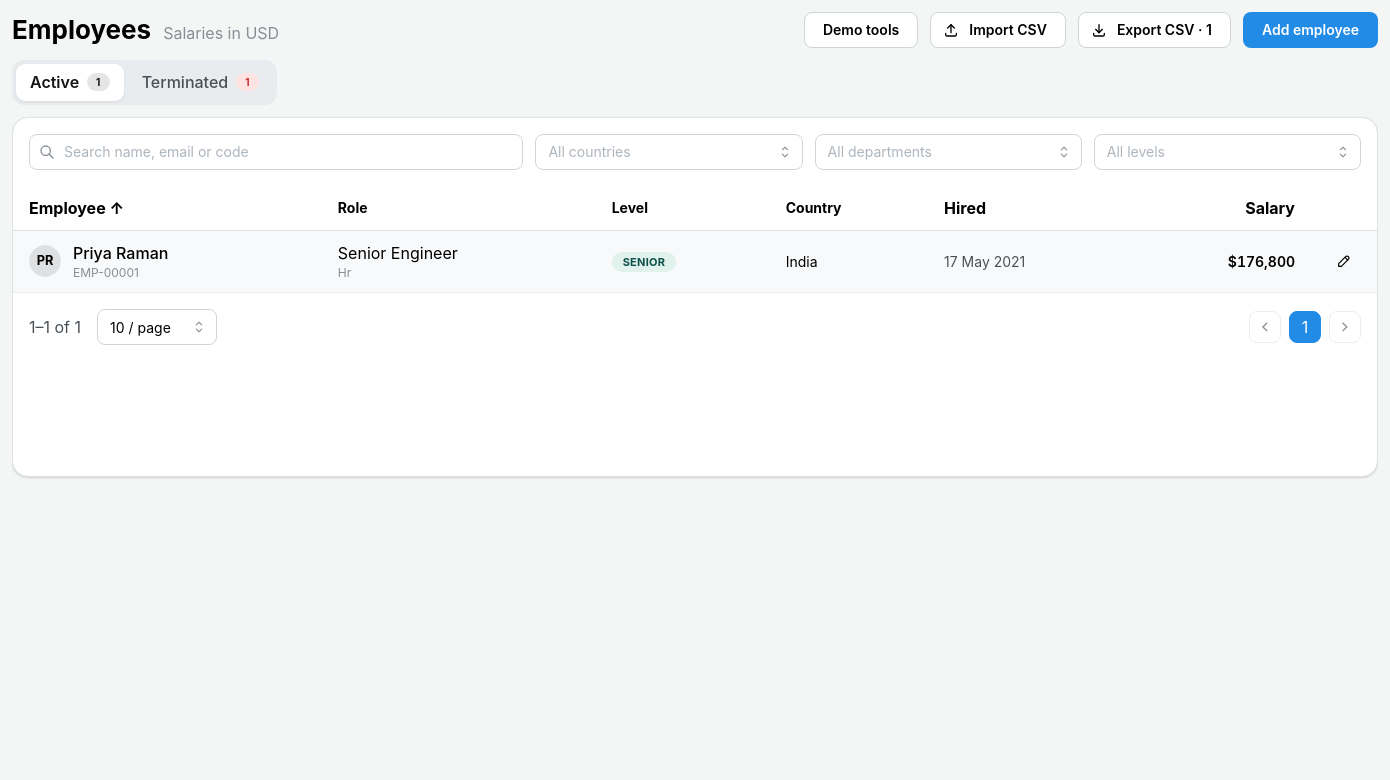
Test case: CSV export › tells you when the export fails and lets you try again
Step 1. Click the button "Export CSV · 1" → (1154, 30), box [1078,12,1231,48]
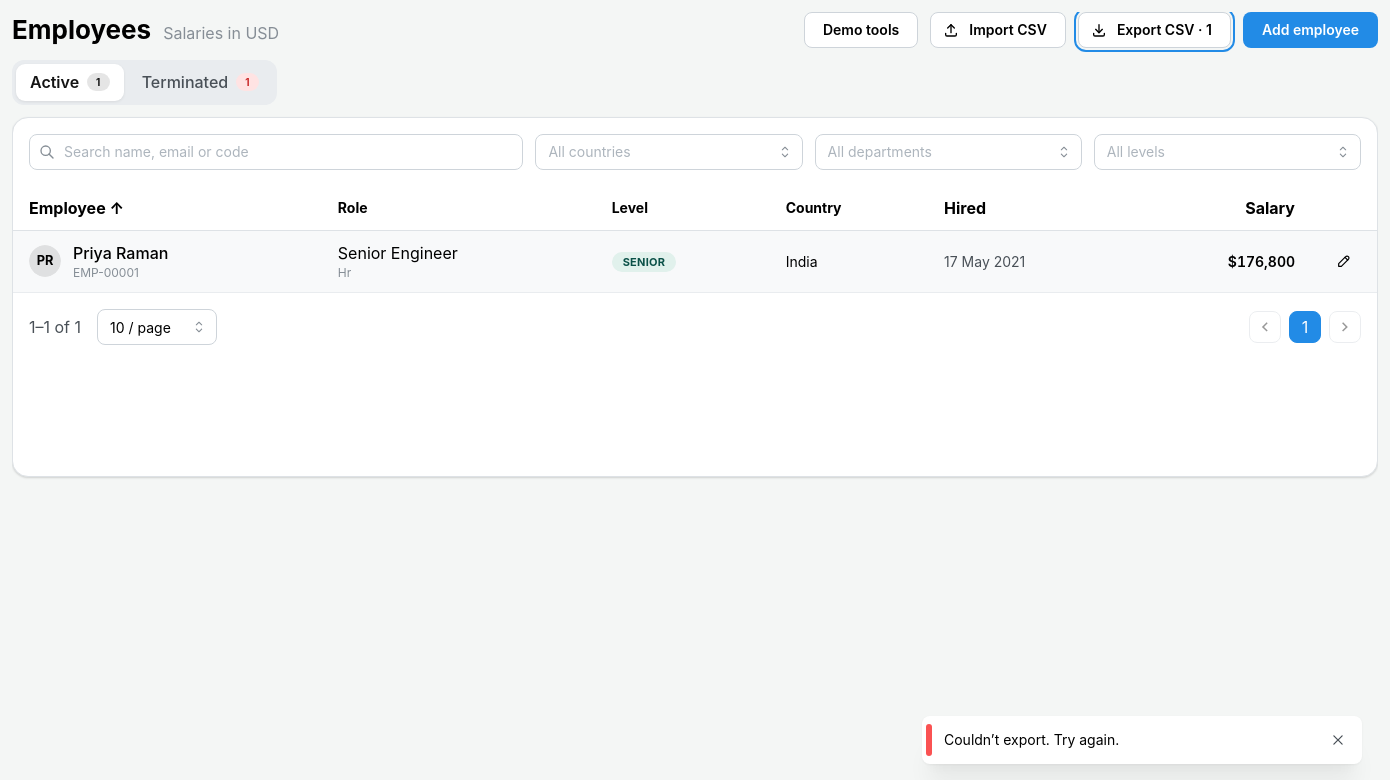
Expected: the text "Couldn’t export. Try again." is shown, [944,731,1119,748]
